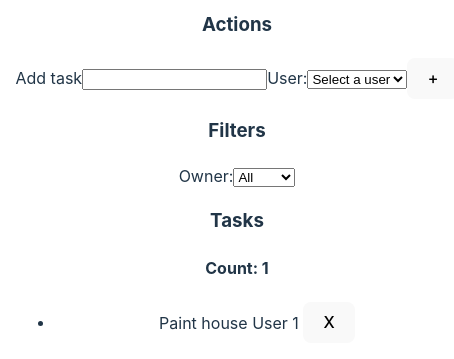
Root Integration (view-model layer services) › should reflect changes when deleting a task in all applicable views
Step 1. Click the button "X" → click(329, 322), box top-left (303, 302), bottom-right (355, 343)
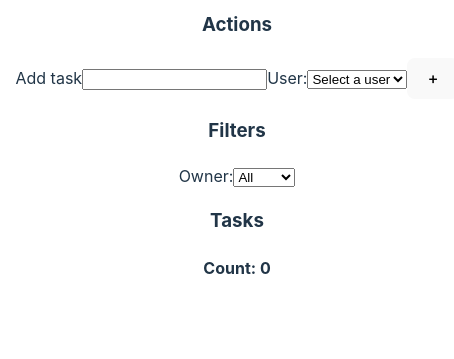
expect the list item "Paint house" is gone: met
